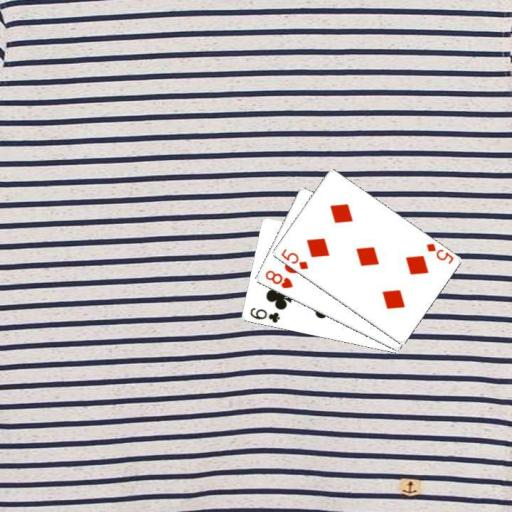5D: (278, 245, 310, 271), (423, 240, 455, 266)
6C: (247, 305, 281, 325)
8H: (262, 268, 294, 291)
